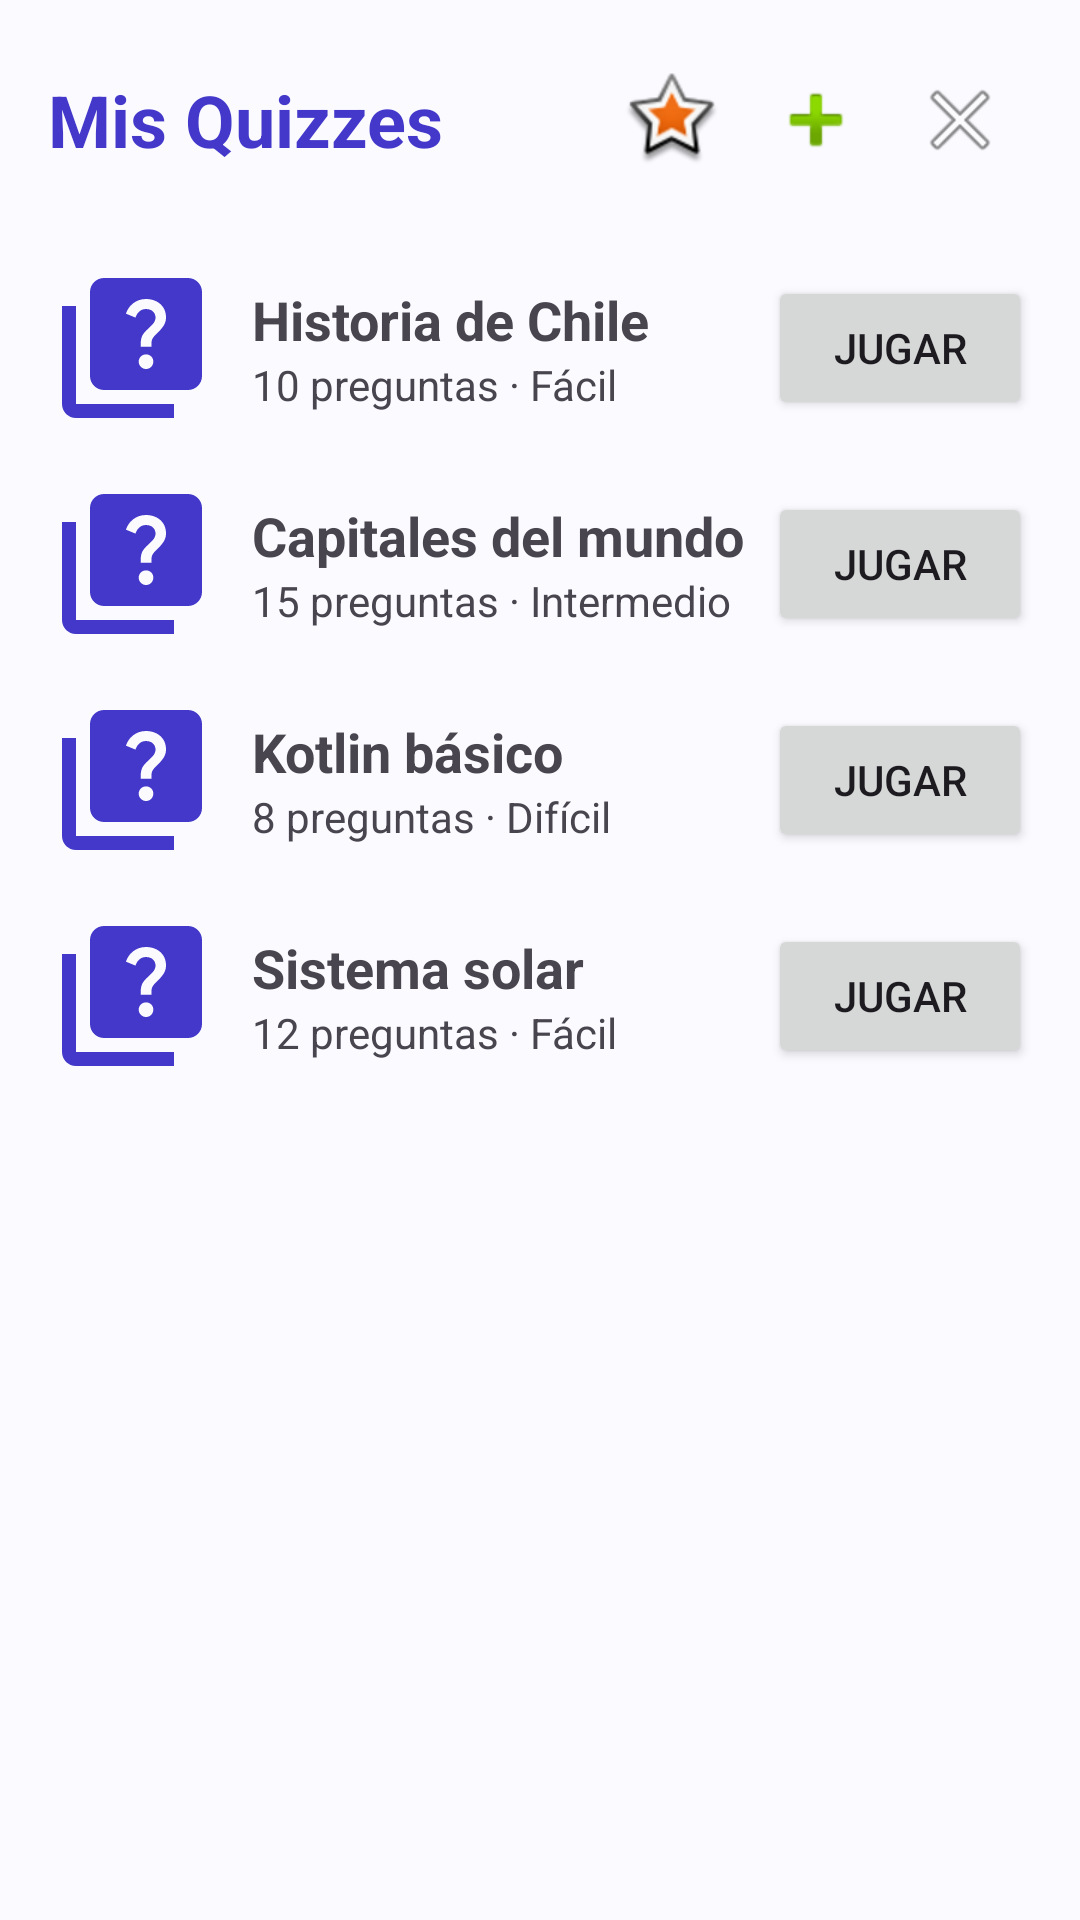

Icon click points for this 1080*1920 phone screenshot, format (x,y):
Agregar quiz: (816,120)
